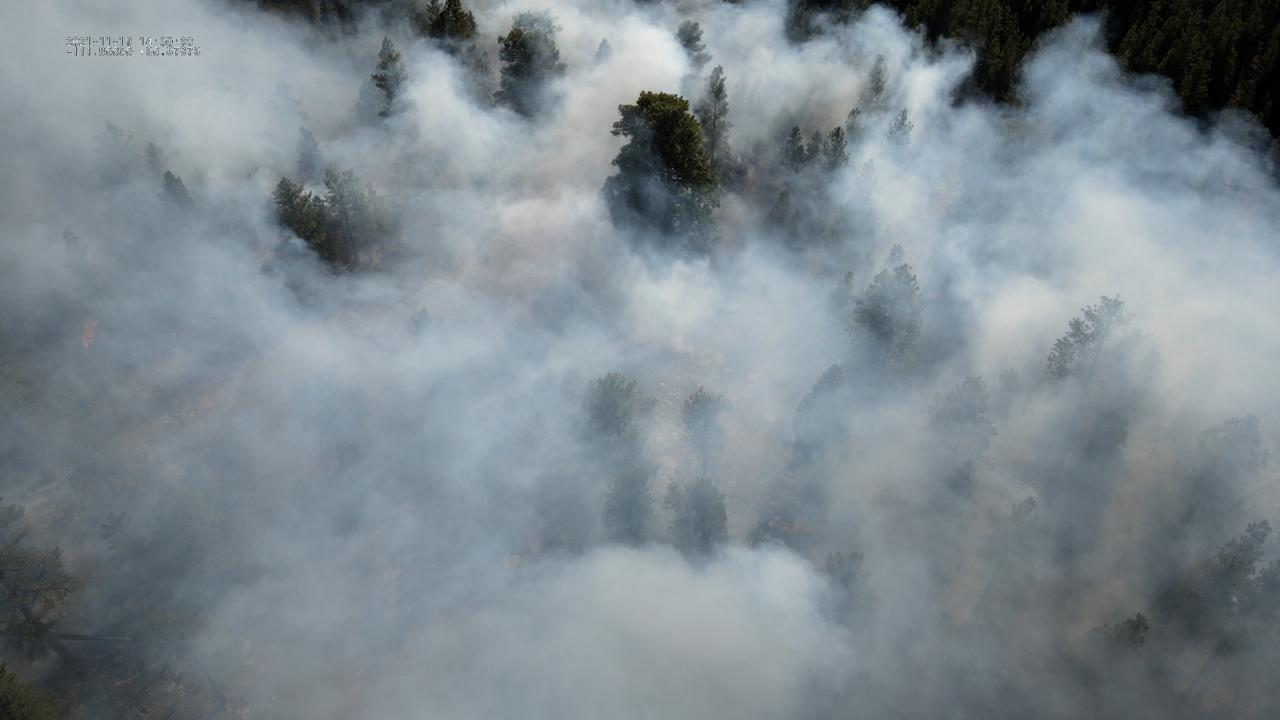fire: (76, 317, 100, 348)
smoke: (0, 0, 1280, 720)
